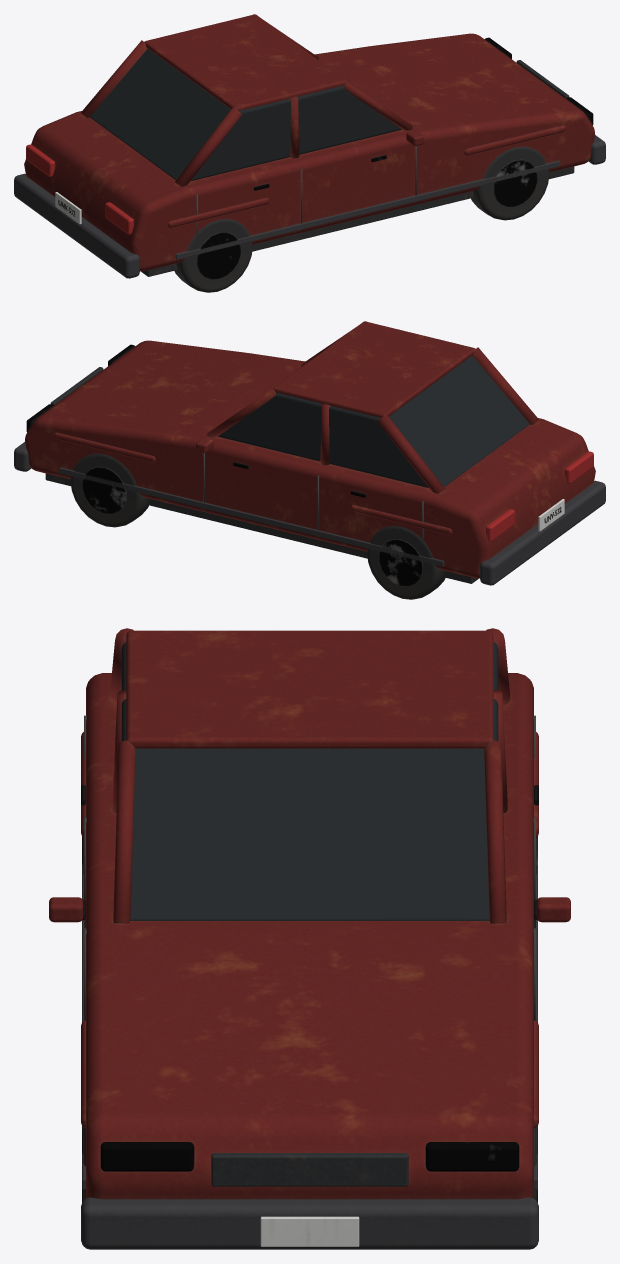
Rendered from auto_rojo.glb.
3 renders of one model, top to bottom at view 1: azimuth 30°, elevation 25°; view 2: azimuth 150°, elevation 25°; view 3: azimuth 270°, elevation 25°, orthographic. The views are drawn at different scales.
Parts seen in each view (by area): view 1: auto_rojo; view 2: auto_rojo; view 3: auto_rojo.
Boxes of the visible parts, <box> form: auto_rojo: <box>14,14,605,292</box>; auto_rojo: <box>14,321,605,599</box>; auto_rojo: <box>49,628,570,1249</box>.
Size of the model in its own units: 4.56 by 1.54 by 2.12.
3 materials, 1 textured.
